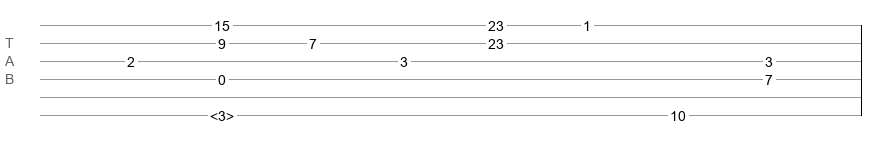0: (218, 72, 226, 82)
1: (583, 18, 591, 28)
10: (670, 108, 686, 118)
15: (214, 18, 230, 28)
2: (127, 54, 135, 64)
23: (488, 18, 504, 28), (488, 36, 504, 46)
3: (400, 54, 408, 64), (765, 54, 773, 64)
7: (309, 36, 317, 46), (765, 72, 773, 82)
9: (218, 36, 226, 46)
harmonic: (210, 108, 234, 118)
